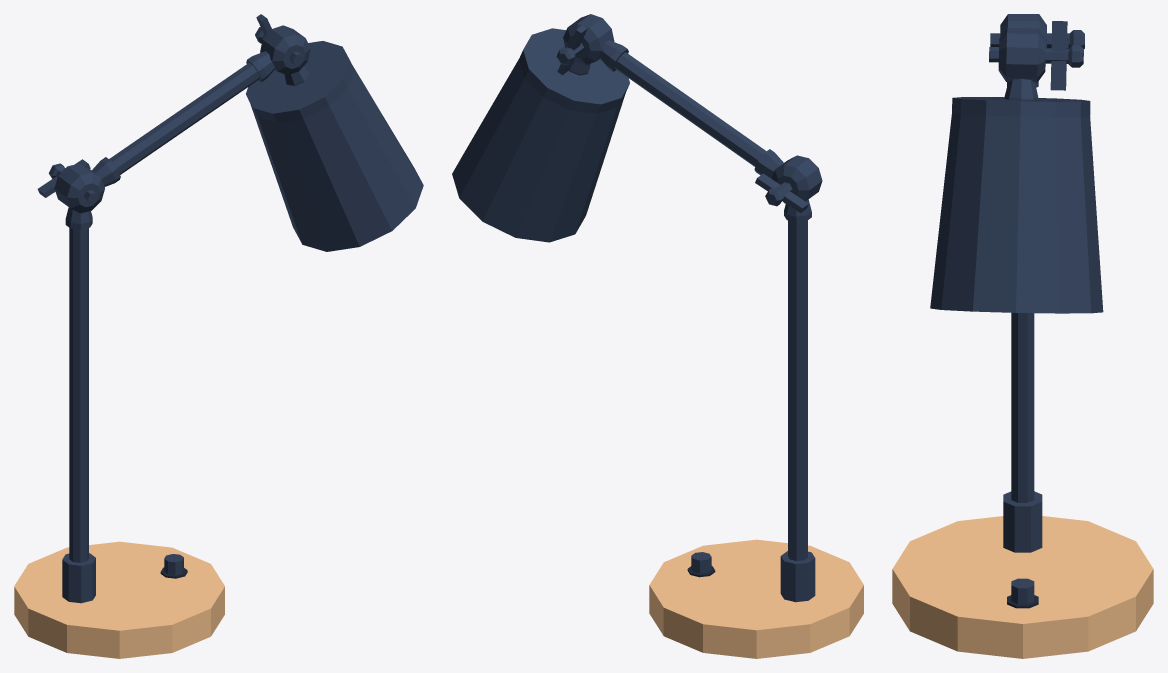
The model's file is desk_lamp.glb.
3 renders of one model, left to right at view 1: azimuth 30°, elevation 25°; view 2: azimuth 150°, elevation 25°; view 3: azimuth 270°, elevation 25°, orthographic. The views are drawn at different scales.
Visible parts, largest first — view 1: group1491648249, group2132285159, group903673691, group1076982204, group1115221507; view 2: group1491648249, group2132285159, group903673691, group1115221507, group1076982204; view 3: group1491648249, group2132285159, group903673691, group1115221507, group1076982204, group247553634, group644361083.
Boxes of the visible parts, x1=… form: group1491648249: x1=92, y1=14, x2=423, y2=251; group2132285159: x1=14, y1=541, x2=224, y2=658; group903673691: x1=69, y1=228, x2=88, y2=562; group1076982204: x1=54, y1=163, x2=104, y2=213; group1115221507: x1=62, y1=553, x2=95, y2=603; group1491648249: x1=452, y1=14, x2=783, y2=242; group2132285159: x1=649, y1=539, x2=863, y2=658; group903673691: x1=788, y1=220, x2=807, y2=560; group1115221507: x1=780, y1=551, x2=815, y2=602; group1076982204: x1=771, y1=155, x2=822, y2=203; group1491648249: x1=930, y1=21, x2=1103, y2=313; group2132285159: x1=892, y1=516, x2=1153, y2=658; group903673691: x1=1011, y1=312, x2=1034, y2=502; group1115221507: x1=1003, y1=491, x2=1042, y2=552; group1076982204: x1=1000, y1=14, x2=1046, y2=48; group247553634: x1=1011, y1=578, x2=1034, y2=604; group644361083: x1=990, y1=30, x2=1084, y2=48.
Size of the model in its own units: 0.4971 by 0.68 by 0.237.
